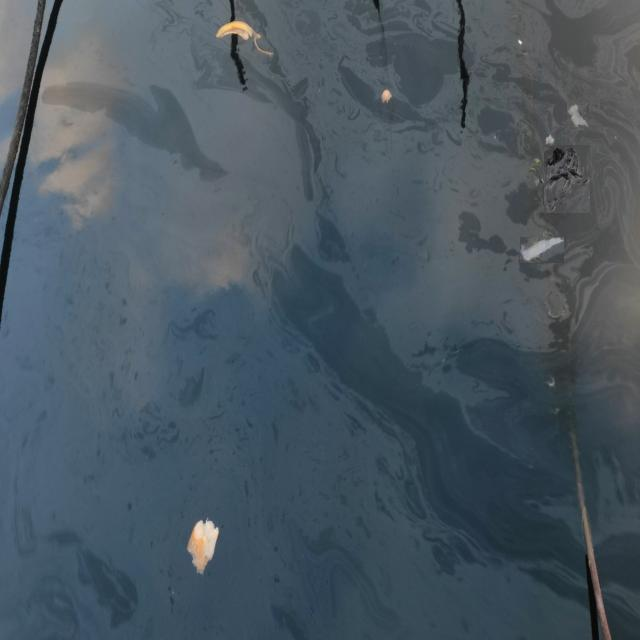Plastic bag: (544, 146, 590, 213), (567, 102, 589, 130)
Plastic packaging: (520, 238, 564, 264), (545, 133, 555, 146)
